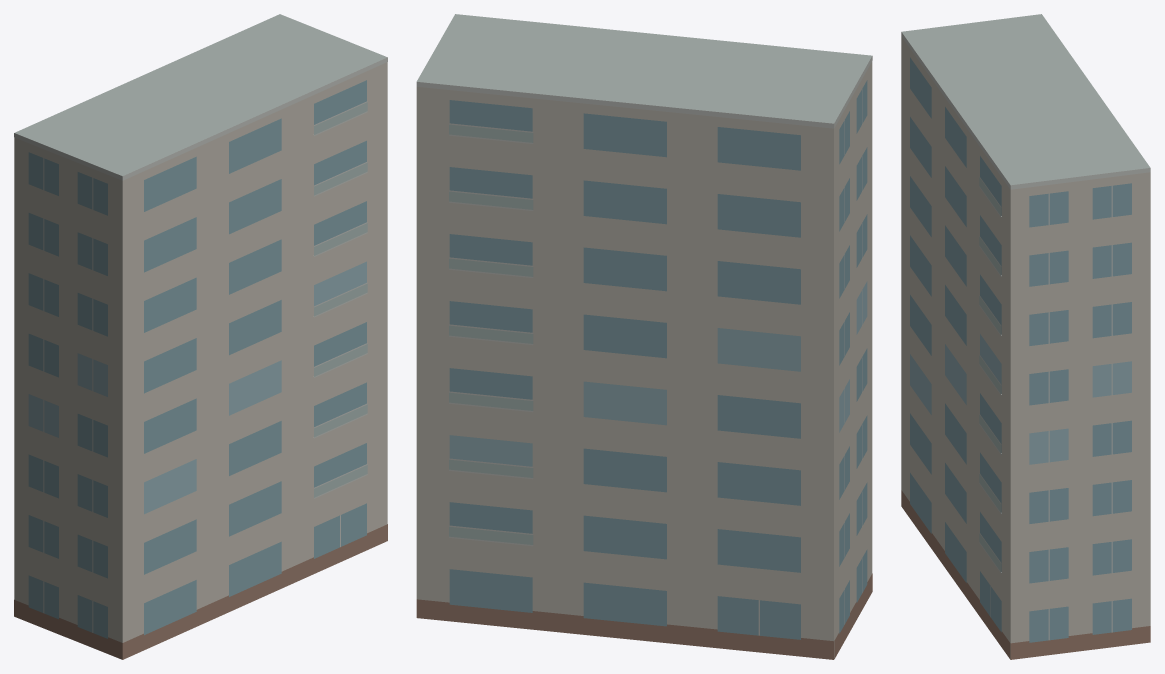
Rendered from survey-upis-32569053.glb.
3 renders of one model, left to right at view 1: azimuth 30°, elevation 25°; view 2: azimuth 150°, elevation 25°; view 3: azimuth 270°, elevation 25°, orthographic. The views are drawn at different scales.
Visible parts, largest first — view 1: survey-upis-32569053.tmp; view 2: survey-upis-32569053.tmp; view 3: survey-upis-32569053.tmp.
Boxes of the visible parts, x1,y1,x2,y2 form: survey-upis-32569053.tmp: (14, 14, 387, 659); survey-upis-32569053.tmp: (416, 14, 872, 659); survey-upis-32569053.tmp: (901, 14, 1150, 659).
Size of the model in its own units: 20.25 by 26.15 by 12.45.
